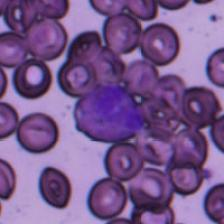E: (73, 84, 145, 144)
